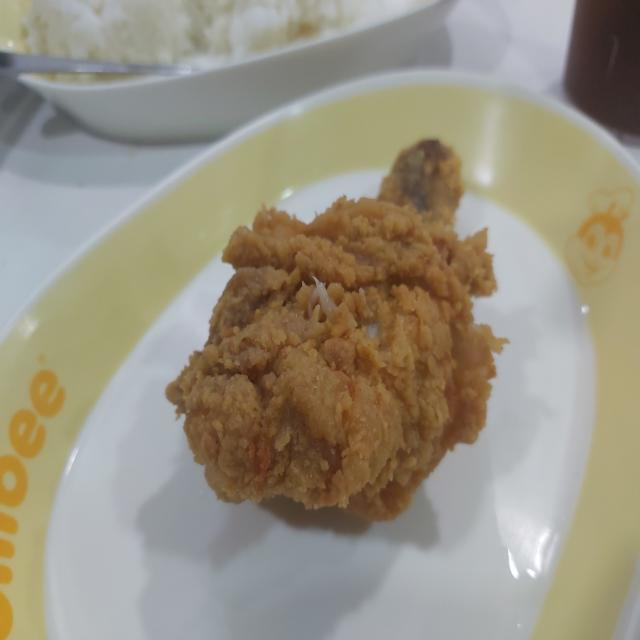Chicken -Fried Chicken-: (154, 118, 506, 571)
